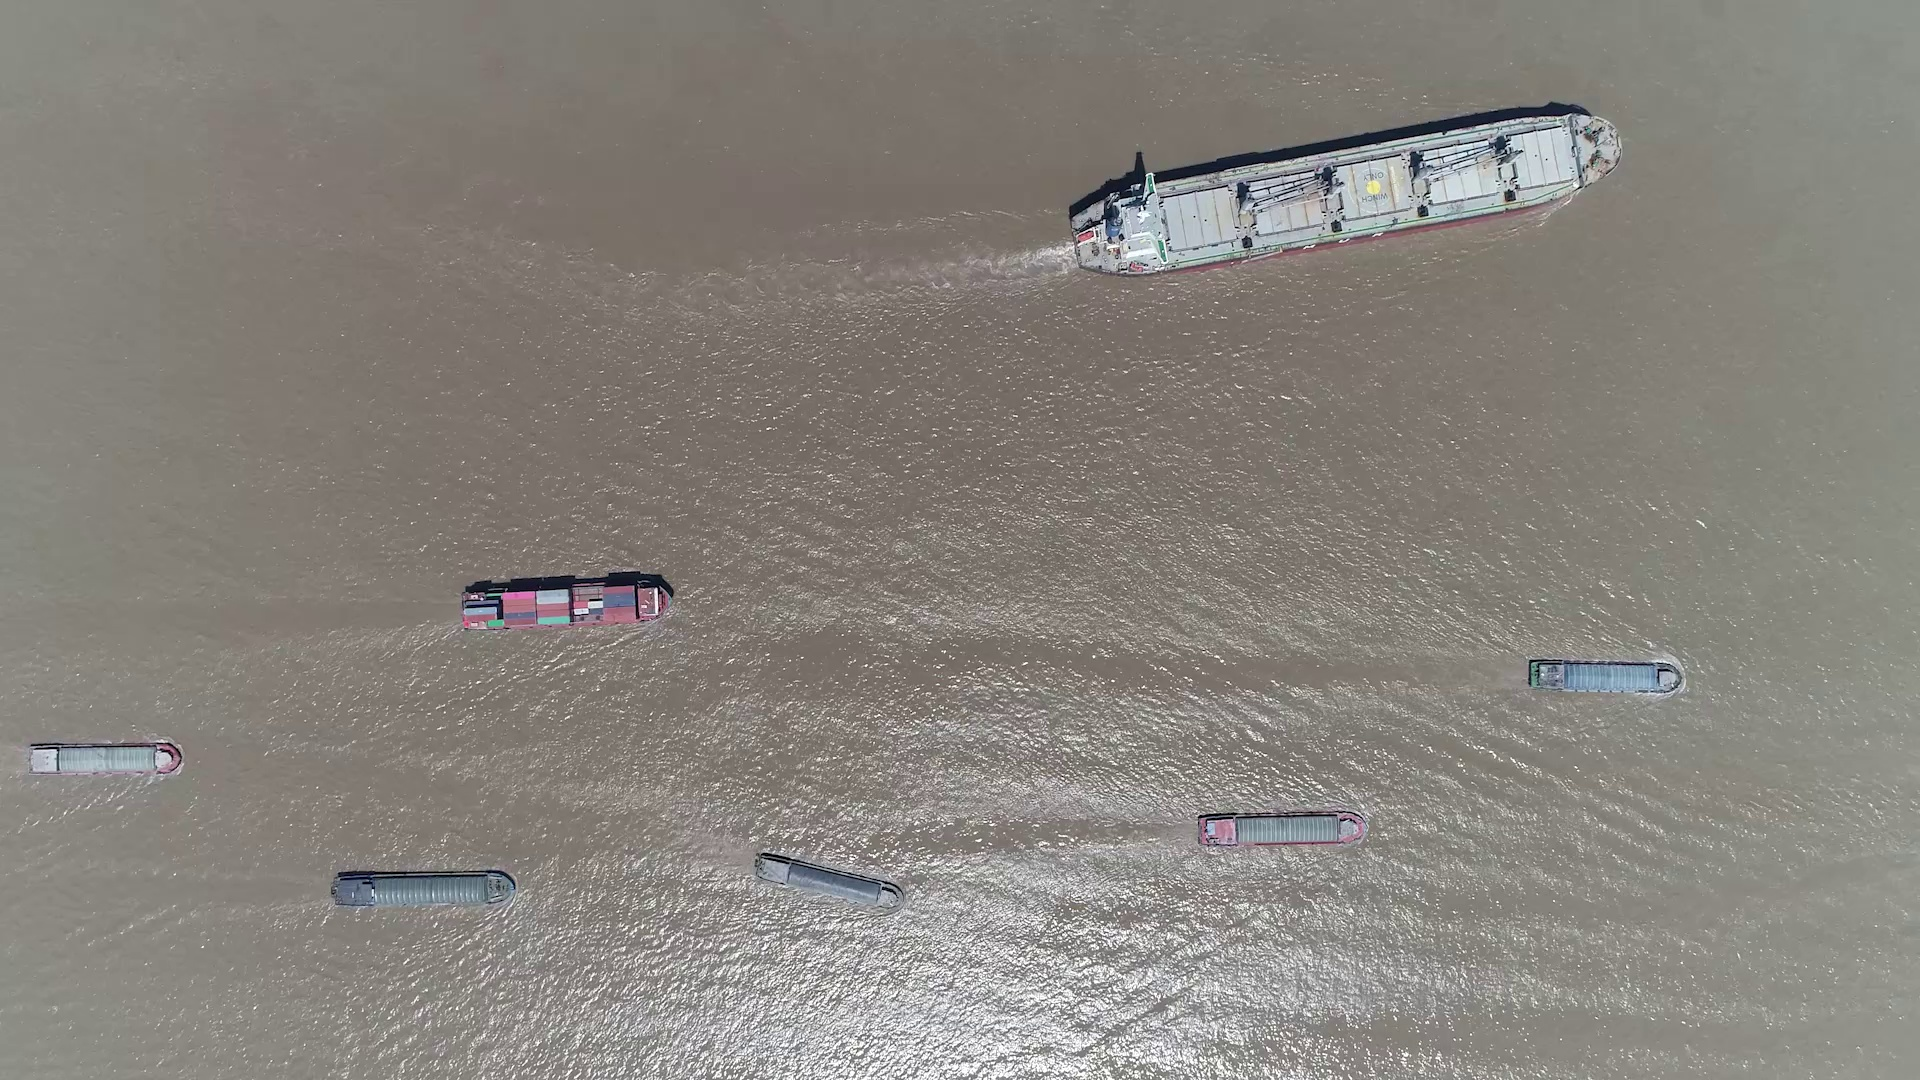ship: (1069, 115, 1622, 272), (462, 578, 673, 630), (756, 855, 902, 909), (331, 868, 516, 906), (1196, 811, 1366, 847), (1526, 659, 1681, 695), (26, 744, 181, 775)
